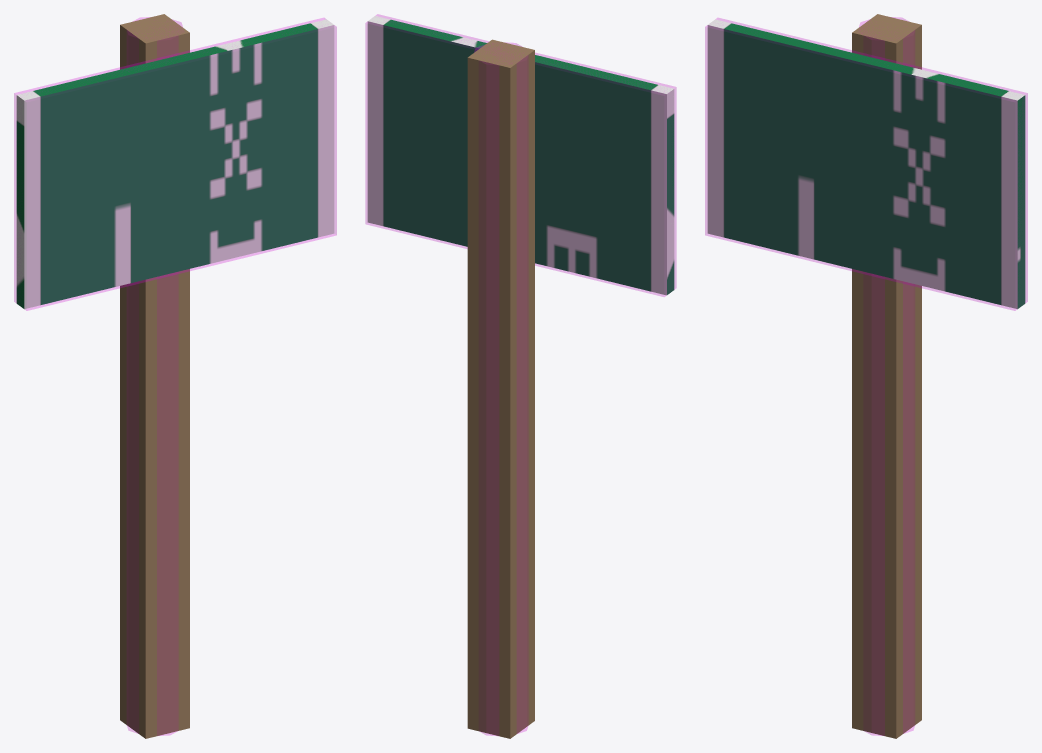
File: exit_right.dae
The picture shows the model from 3 angles, left to right: view 1: azimuth 30°, elevation 25°; view 2: azimuth 150°, elevation 25°; view 3: azimuth 330°, elevation 25°; orthographic projection. The views are drawn at different scales.
Visible parts, largest first — view 1: sign, Colmesh_sign-1, post, Colmesh_post-1; view 2: sign, post, Colmesh_sign-1, Colmesh_post-1; view 3: sign, Colmesh_sign-1, post, Colmesh_post-1.
Part boxes in pixels (bbox=[...]): sign: bbox=[16, 19, 334, 309]; Colmesh_sign-1: bbox=[14, 18, 336, 310]; post: bbox=[120, 14, 189, 738]; Colmesh_post-1: bbox=[127, 17, 182, 735]; sign: bbox=[367, 16, 674, 295]; post: bbox=[467, 39, 534, 738]; Colmesh_sign-1: bbox=[365, 14, 676, 296]; Colmesh_post-1: bbox=[474, 42, 527, 735]; sign: bbox=[707, 19, 1025, 309]; Colmesh_sign-1: bbox=[705, 18, 1027, 310]; post: bbox=[852, 14, 921, 738]; Colmesh_post-1: bbox=[859, 17, 914, 735].
Size of the model in its own units: 0.7 by 0.165 by 1.5.
Materials: 3 (1 with a texture image).
